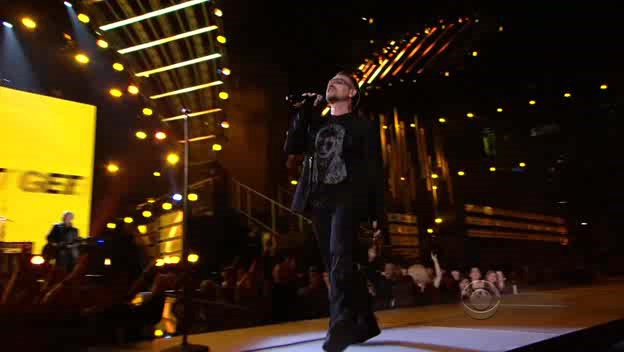person: (290, 72, 374, 236), (287, 72, 371, 236), (293, 72, 377, 236), (290, 69, 374, 233), (290, 75, 374, 239)
target_negative: (164, 103, 423, 226), (468, 230, 555, 348), (547, 244, 624, 289), (401, 235, 409, 309), (577, 159, 595, 178)
